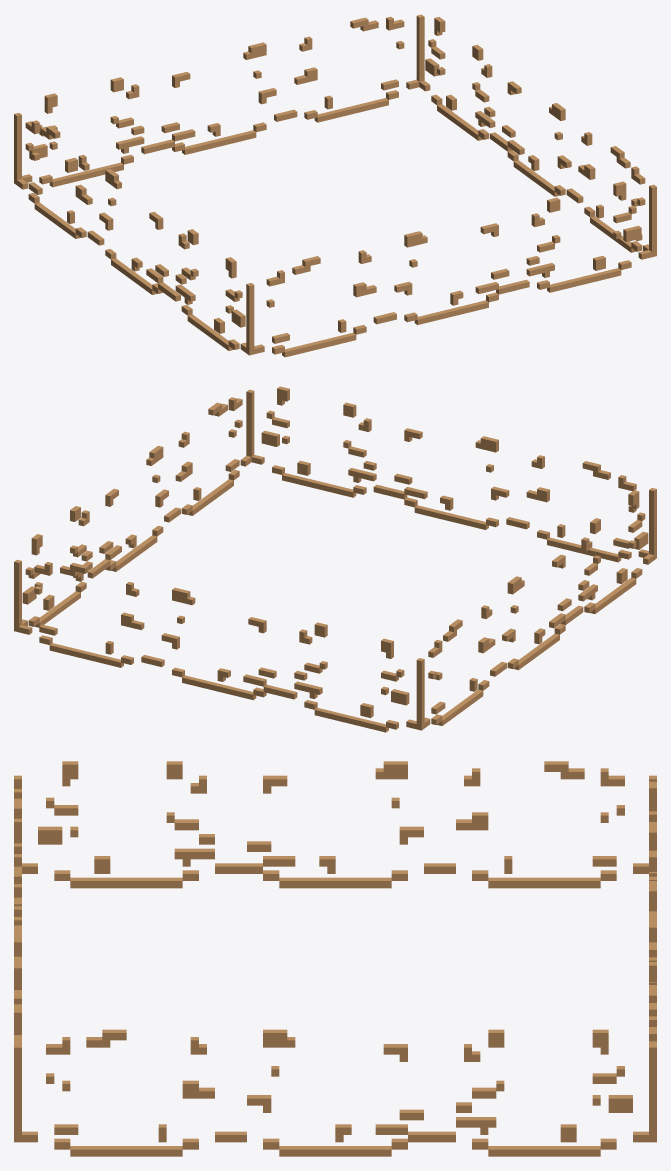
Rendered from archero-1.obj.
3 views of the same model, one above another, from view 1: azimuth 30°, elevation 25°; view 2: azimuth 150°, elevation 25°; view 3: azimuth 270°, elevation 25° (orthographic). The views are drawn at different scales.
Bounding box in the file's own units: 8 × 1.7 × 8.
Materials: 1 (1 with a texture image).
